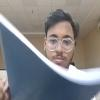notebook: (0, 8, 99, 99)
